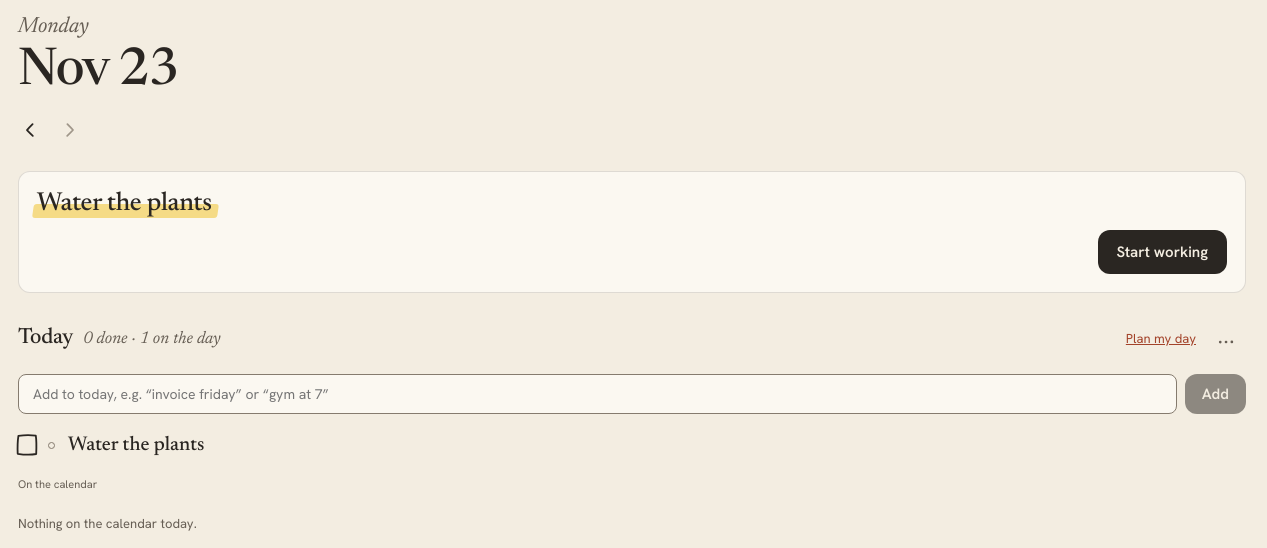
Test: <TodayView> under Field notes › keeps one control in the header and moves Review into the menu
Check: the button "Review" is not shown
Click the button named "More actions": [1226, 339] box [1206,319,1246,359]
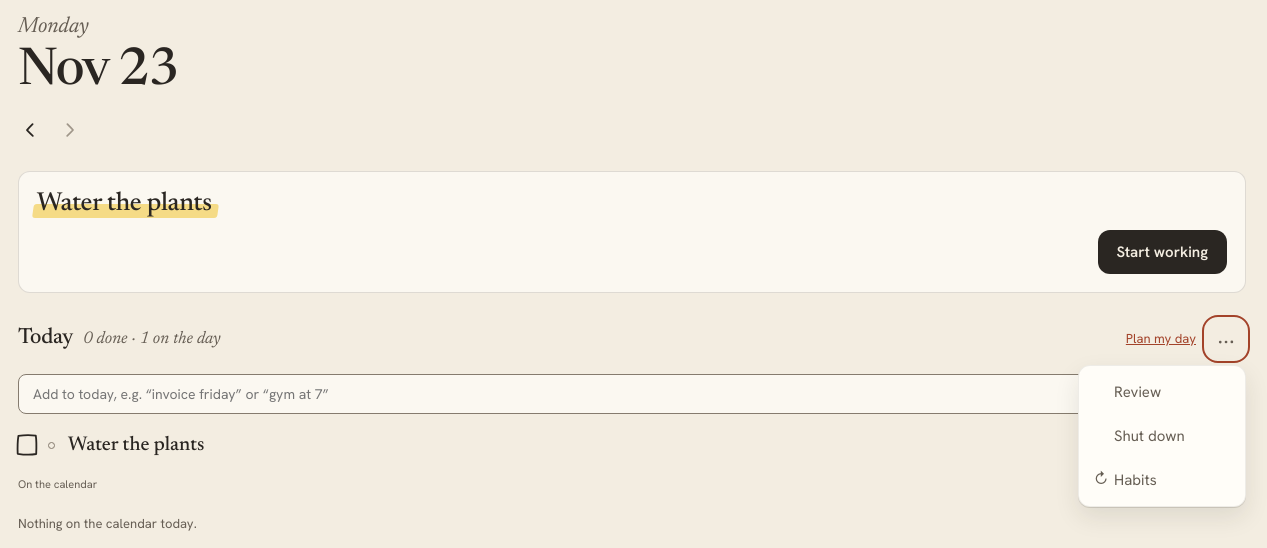
Click the button "Review": [1162, 392] box [1083,370,1241,414]
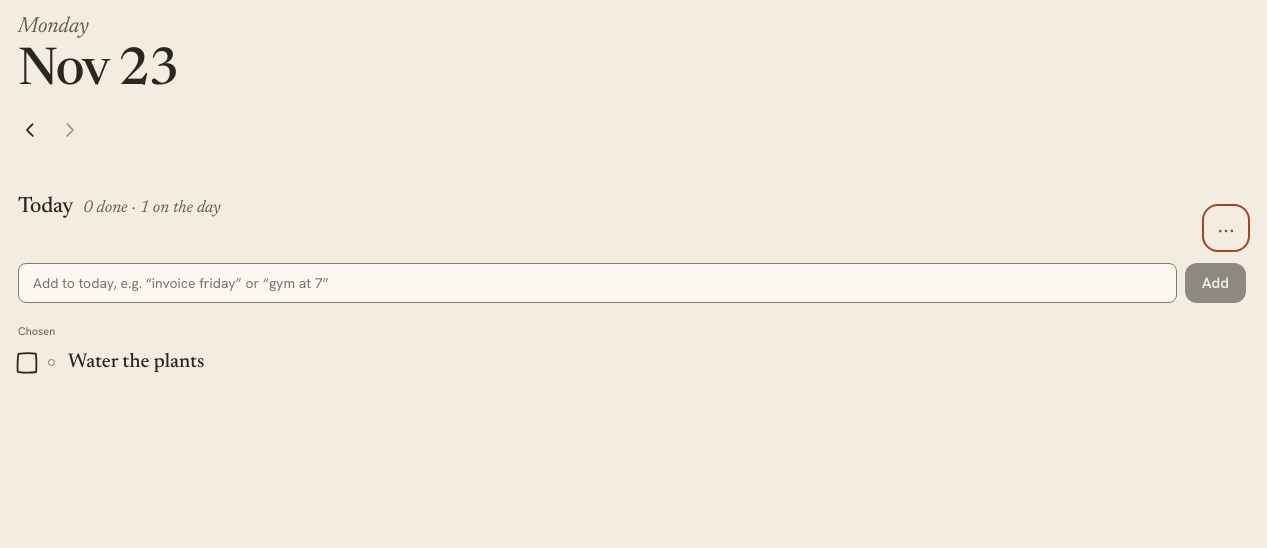
// Review is a render-level switch, so the same item now offers the way back.
Click the button named "More actions": [1226, 228] box [1206,208,1246,248]
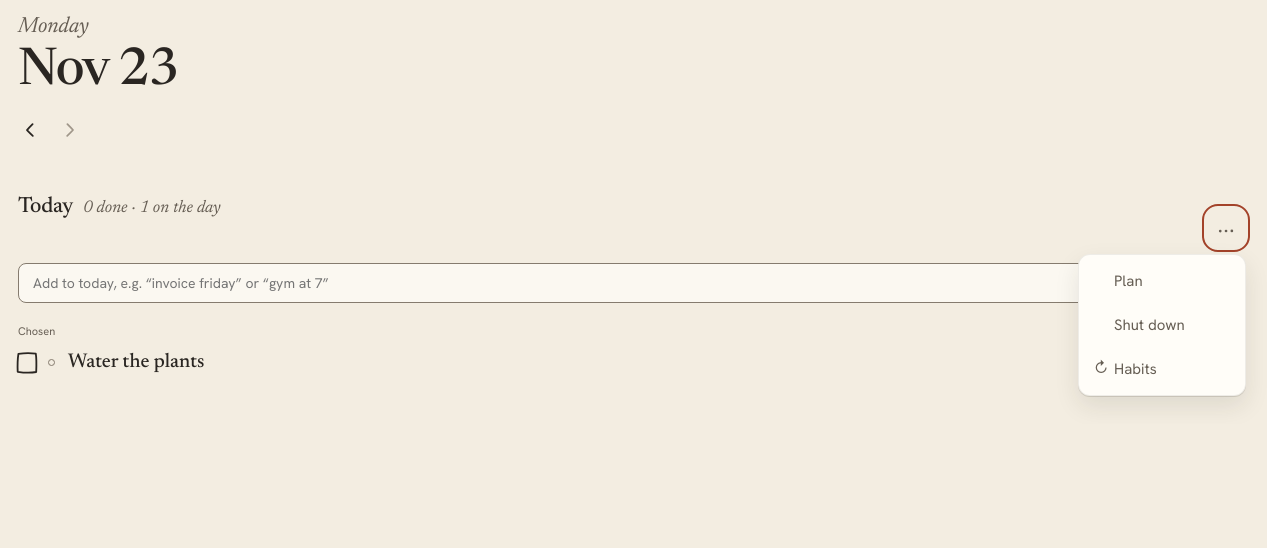
Check: the button "Review" is not shown
Check: the button "Plan" is shown, box [1083,258,1241,302]
